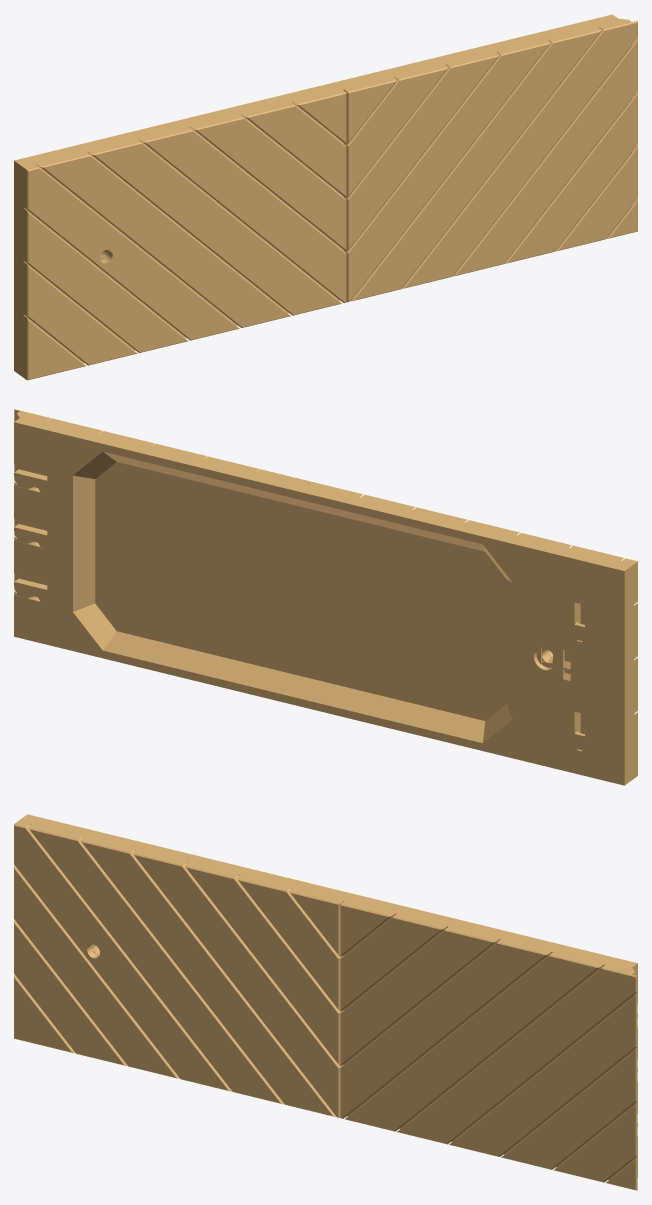
Rendered from Door_Chevron_2W-1H_RH.lib.glb.
3 views of the same model, one above another, from view 1: azimuth 30°, elevation 25°; view 2: azimuth 150°, elevation 25°; view 3: azimuth 330°, elevation 25° (orthographic).
Parts seen in each view (by area): view 1: Door_Chevron_2W-1H_RH; view 2: Door_Chevron_2W-1H_RH; view 3: Door_Chevron_2W-1H_RH.
Part boxes in pixels (x1,y1,x2,y2): Door_Chevron_2W-1H_RH: (14,14,637,380); Door_Chevron_2W-1H_RH: (14,409,637,785); Door_Chevron_2W-1H_RH: (14,814,637,1190).
Size of the model in its own units: 167 by 55 by 6.51.
